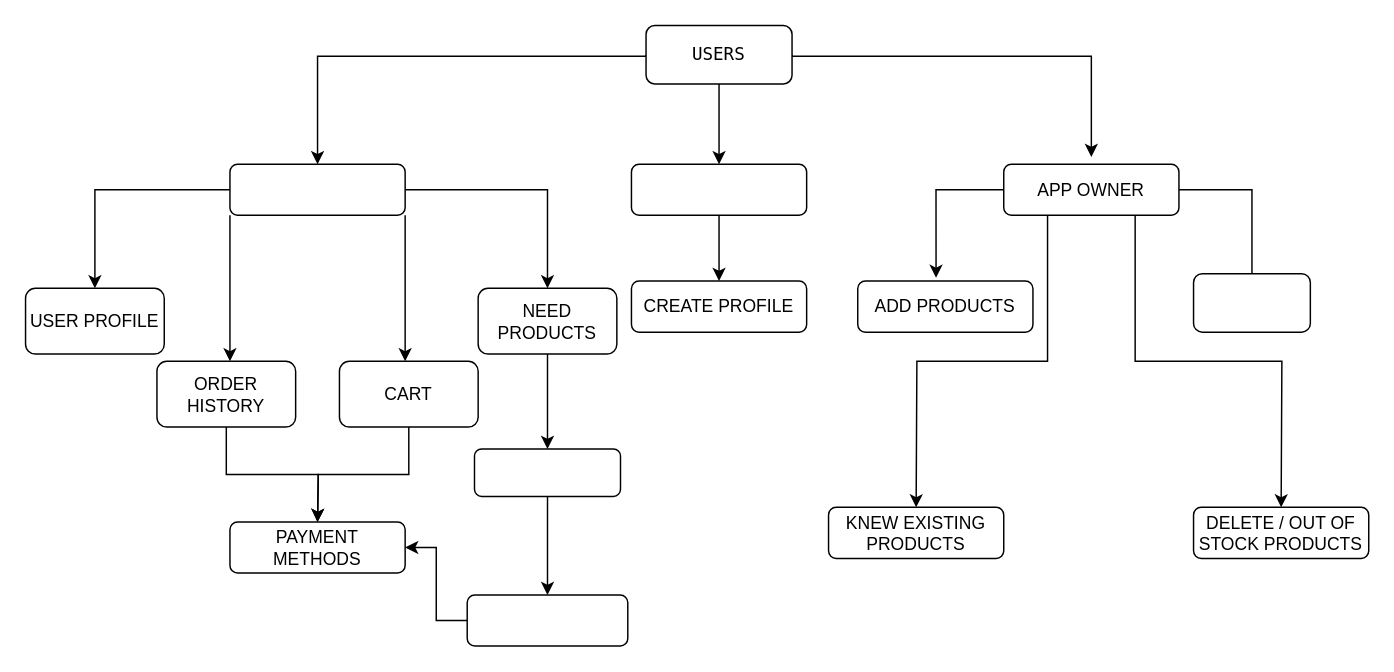
Some shapes in this 1394 by 672 pixel diagram are drawn without their labels. The centre of each missing label's shape, as x and y in pixels:
EXSITING USER: the point at 316,189
NEW USER: the point at 718,189
PAYMENTS METHODS: the point at 1251,302
PURCHASE PRODUCTS: the point at 547,619
SELECT PRODUCTS: the point at 546,471
